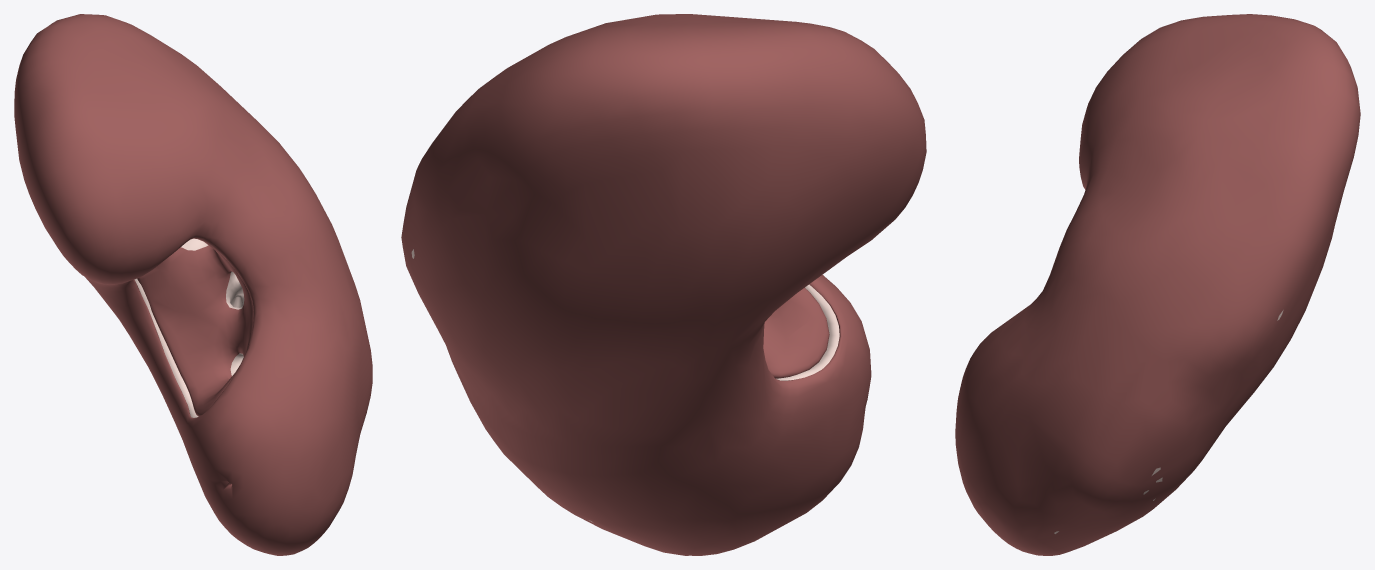
The model's file is kidney_l.glb.
The picture shows the model from 3 angles, left to right: view 1: azimuth 30°, elevation 25°; view 2: azimuth 150°, elevation 25°; view 3: azimuth 270°, elevation 25°; orthographic projection. The views are drawn at different scales.
Size of the model in its own units: 0.0757 by 0.1065 by 0.0824.
